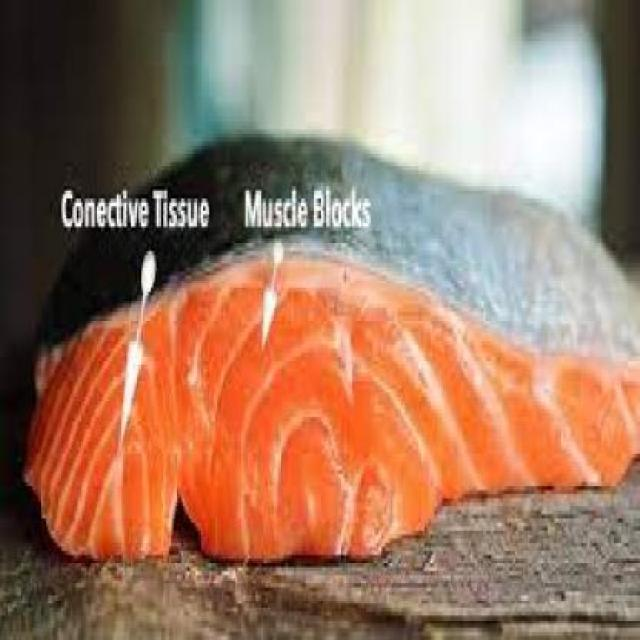salmon: (20, 134, 640, 563)
